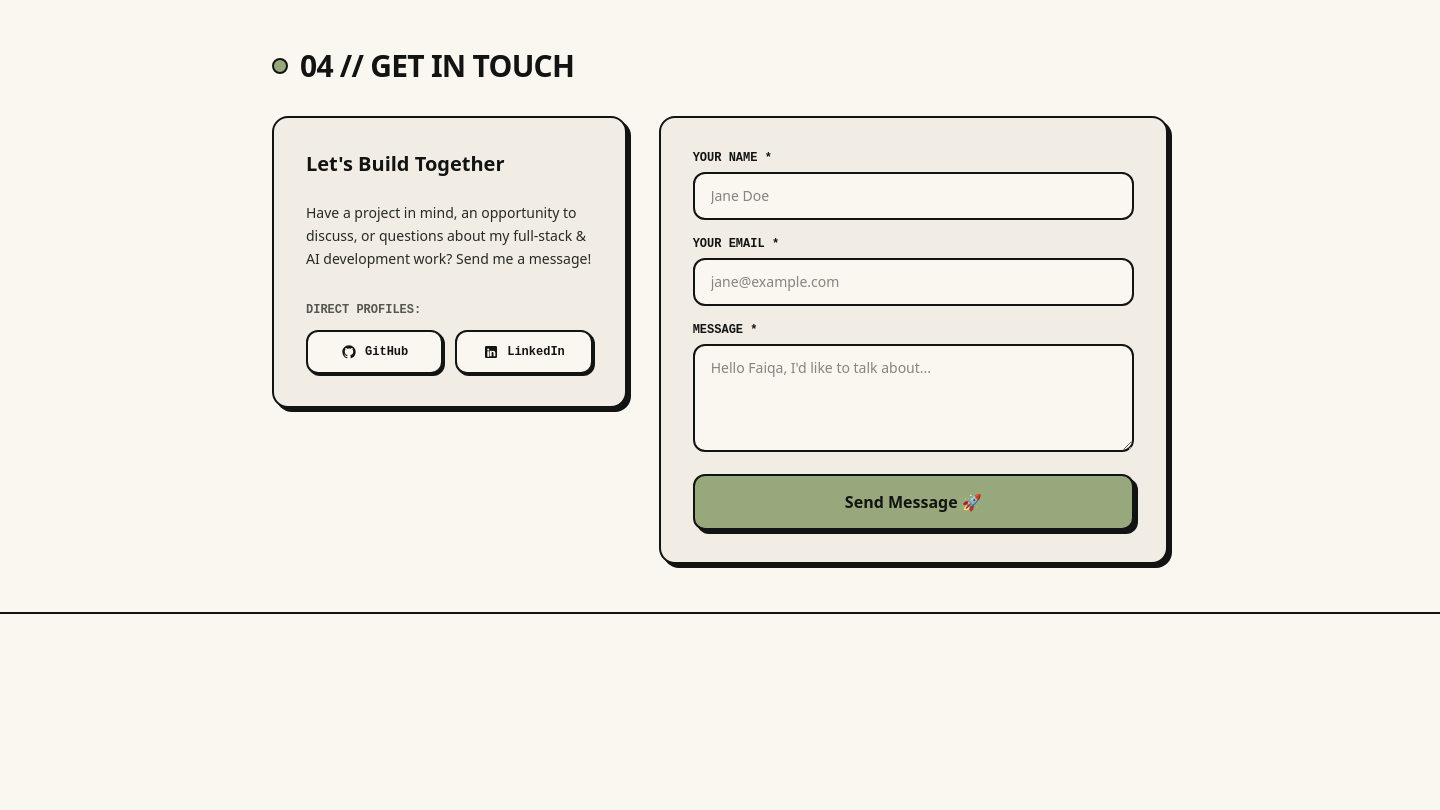
Test: Contact component › submits form successfully and displays success message
The width and height of the screenshot is (1440, 810).
Type "Alice" into the field labelled "Your Name *". click: (913, 196)
box: [693,172,1134,220]
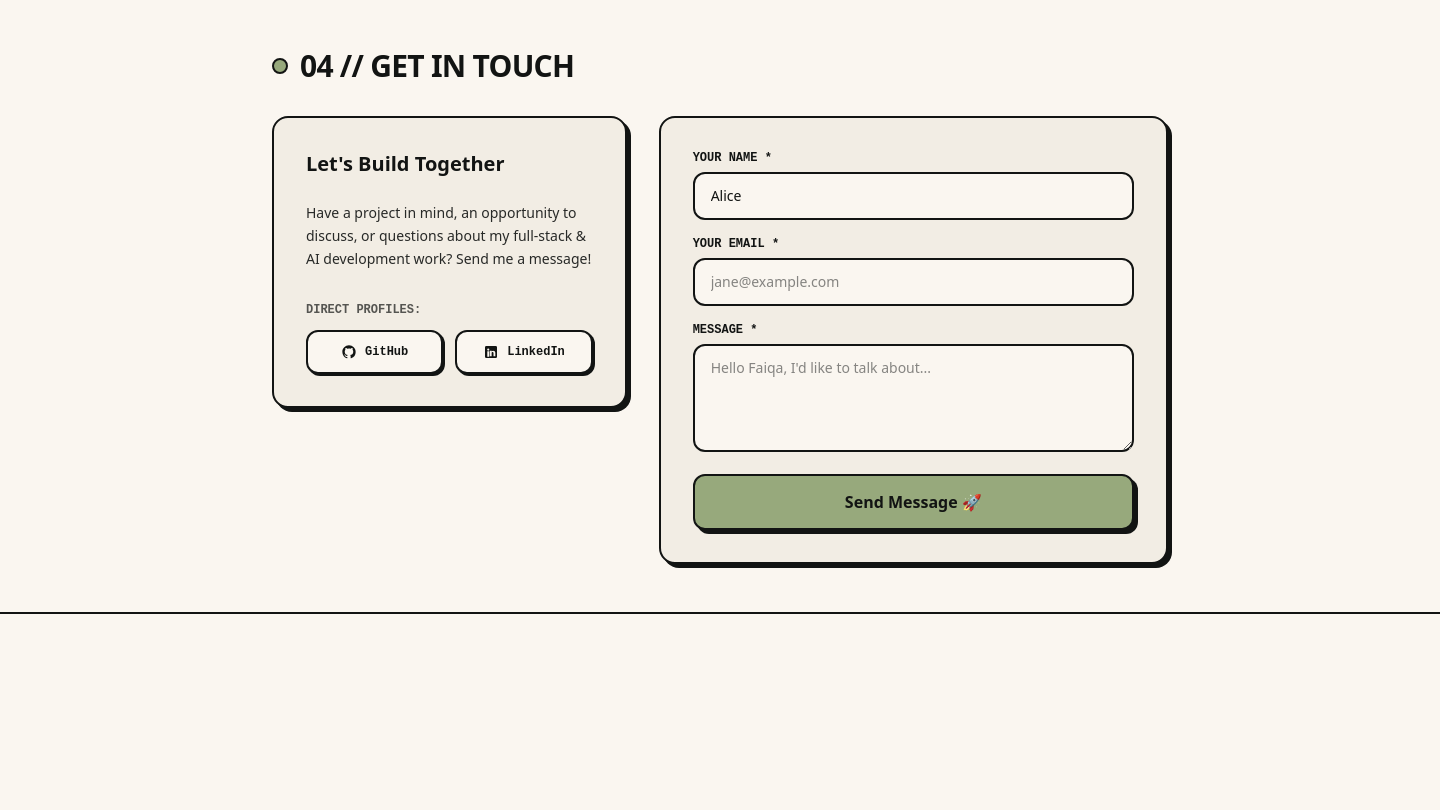
Type "alice@example.com" into the field labelled "Your Email *". click: (913, 282)
box: [693,258,1134,306]
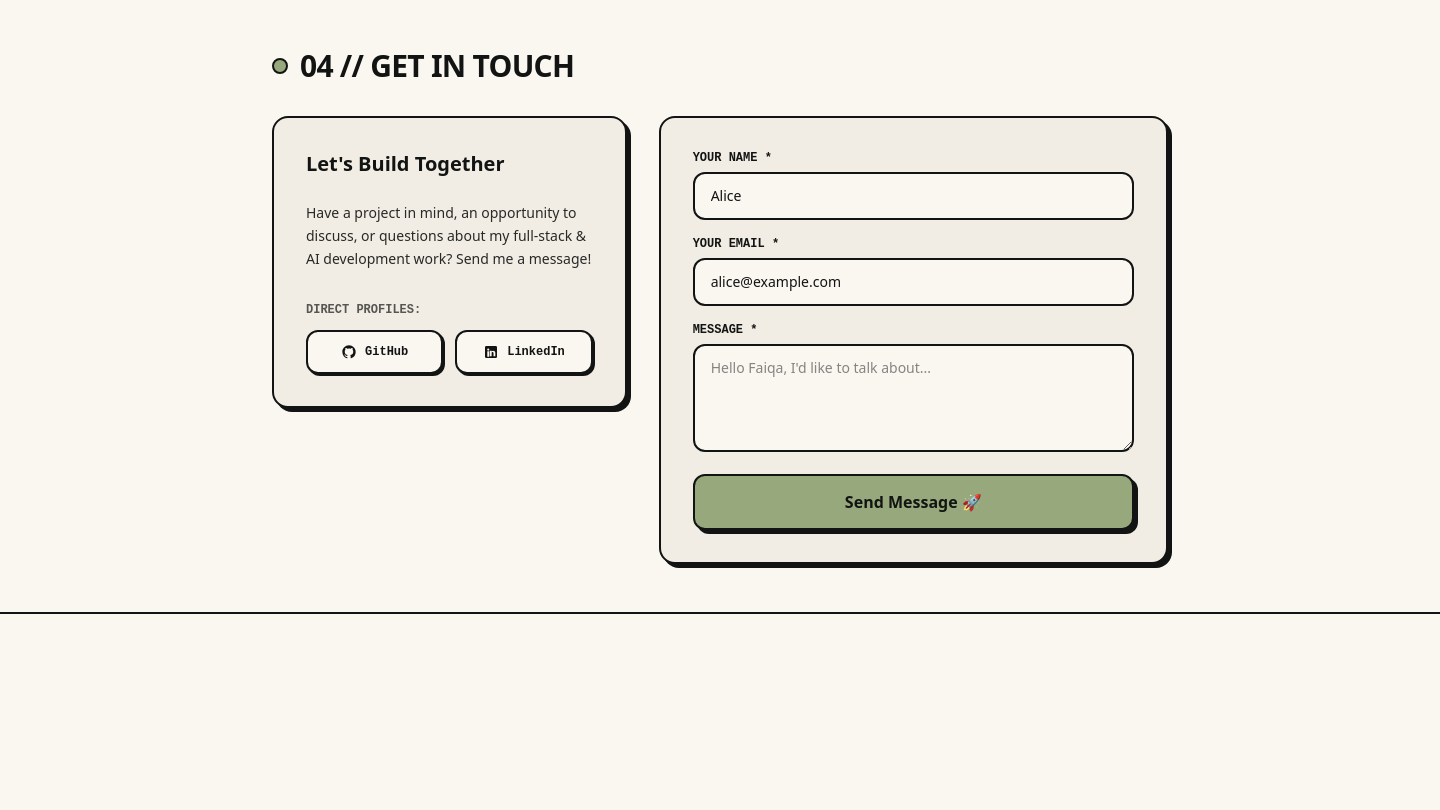
Type "Interested in collaborating!" into the text box labelled "Message *". click: (913, 398)
box: [693,344,1134,452]
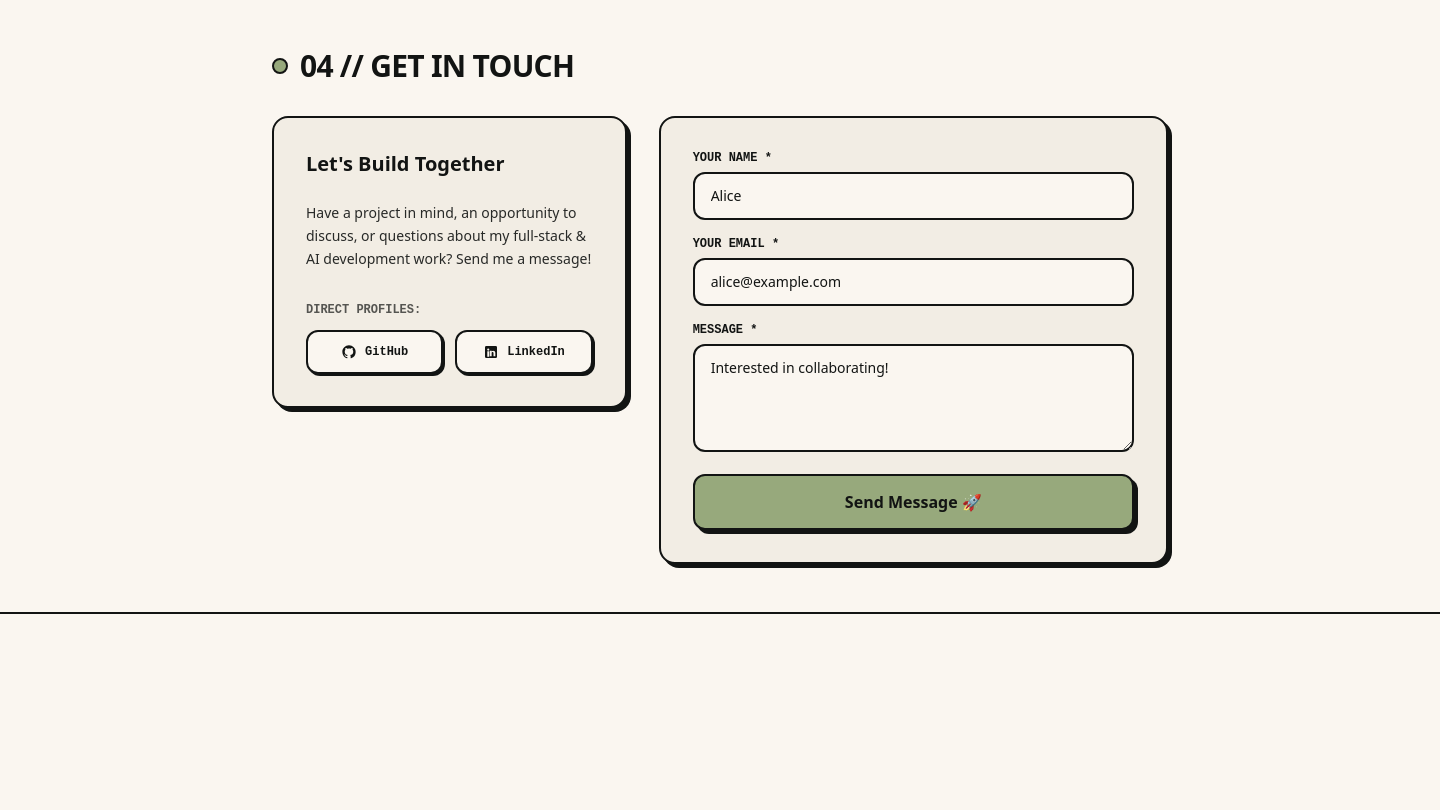
Submit the form, box [693,150,1134,530]
Wait 1500 ms
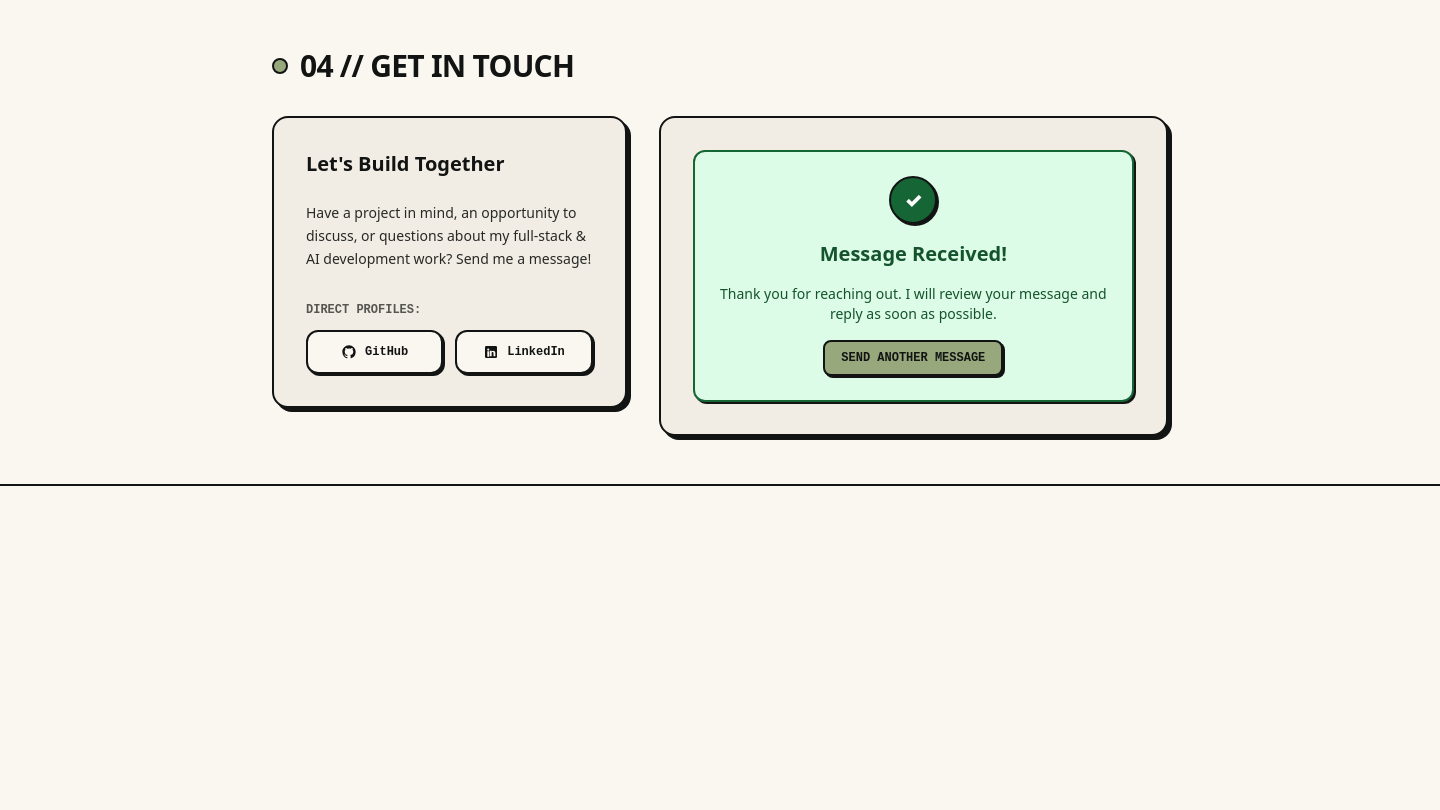
Check: the heading "Message Received!" is shown, box [820,240,1007,267]
